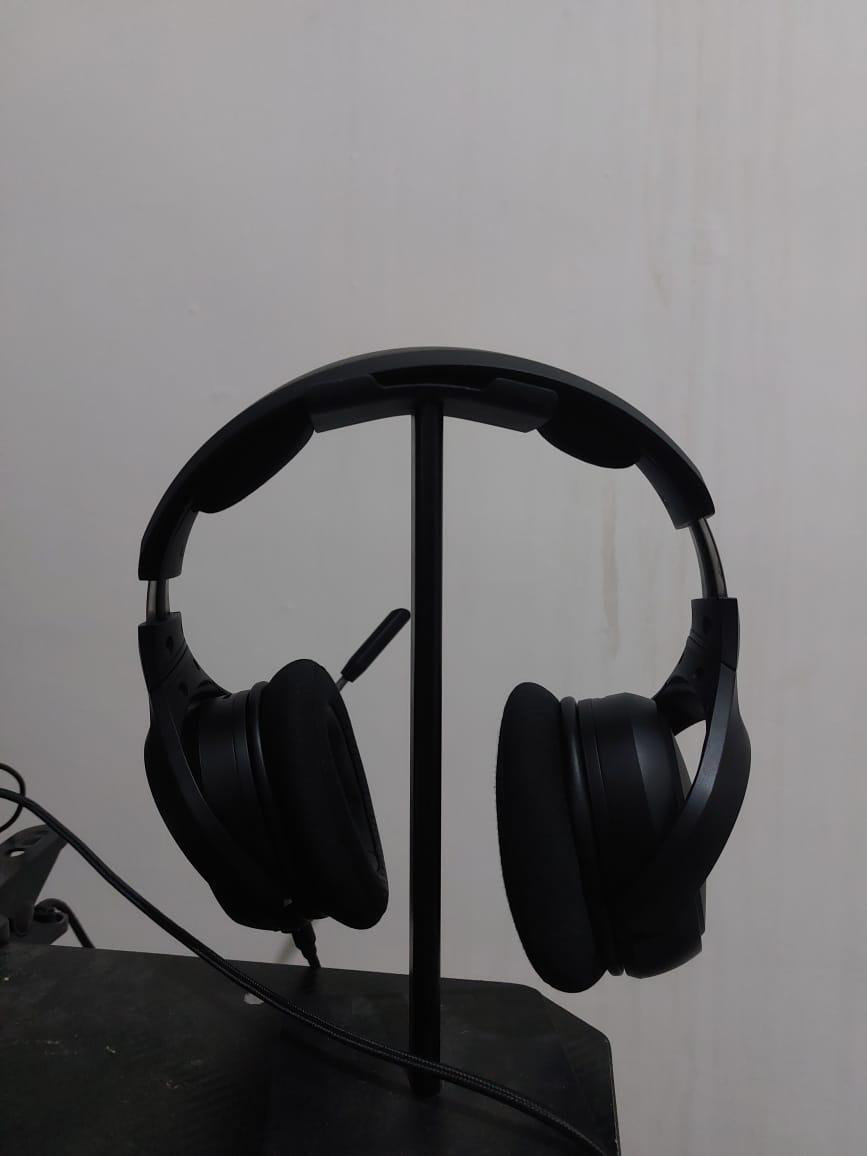Headset: (121, 338, 763, 997)
